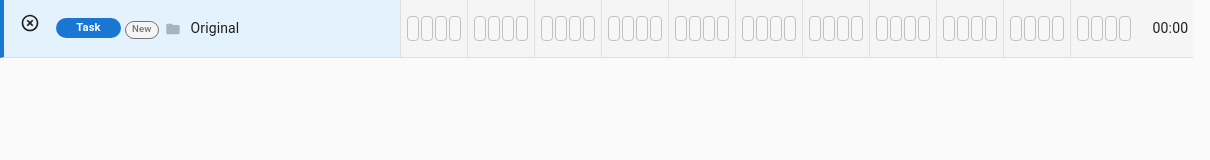
Test: TaskRow › edit mode › should update task description on blur
Replace the text in the field showing "Original" with "Updated Description" at (287, 28), box [190,18,384,38]
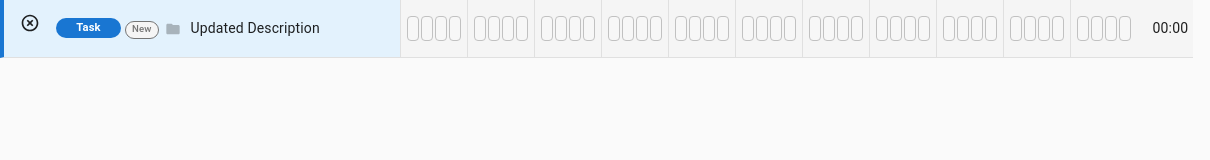
Note: Blur the input to save
Press Tab
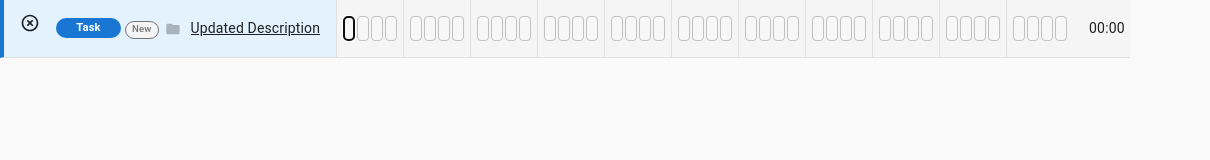
Check: the text "Updated Description" is shown, box [190,18,320,38]
